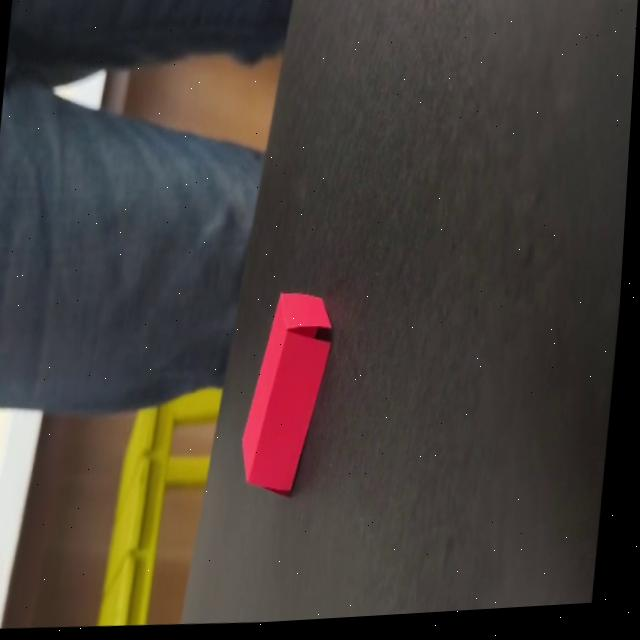red block: (234, 286, 335, 498)
